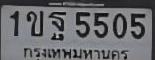0: (112, 12, 126, 38)
1: (9, 10, 18, 35)
5: (130, 12, 145, 38), (93, 12, 108, 37), (75, 11, 89, 37)
A02: (26, 10, 43, 36)
A16: (48, 11, 67, 43)
BKK: (20, 44, 131, 60)
